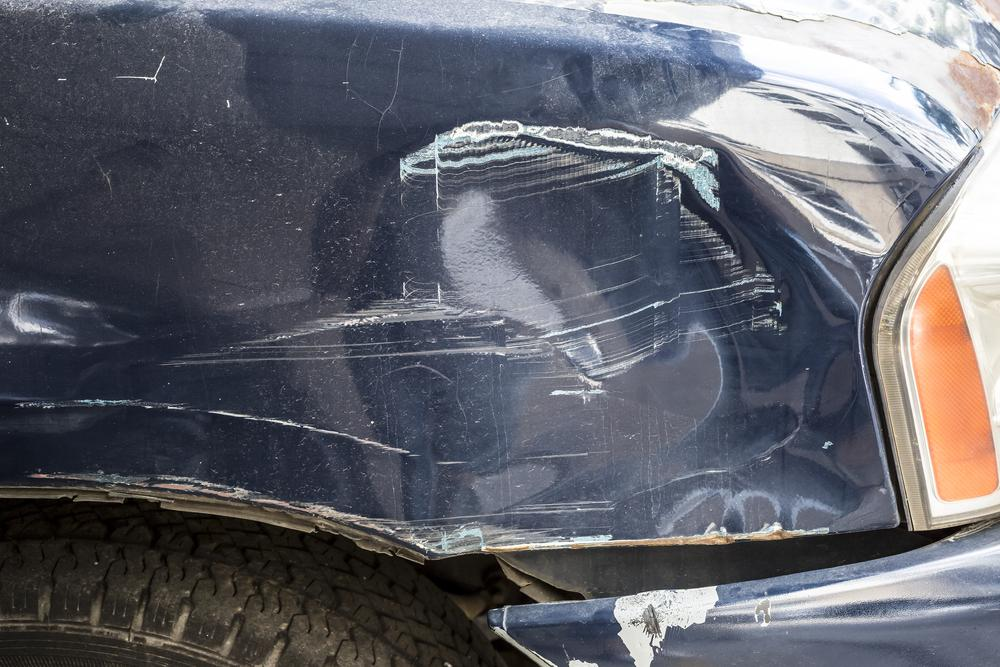dent: (447, 148, 860, 534), (10, 284, 180, 425)
scratch: (24, 470, 609, 561), (383, 113, 709, 212), (218, 281, 552, 366), (146, 398, 418, 458)
